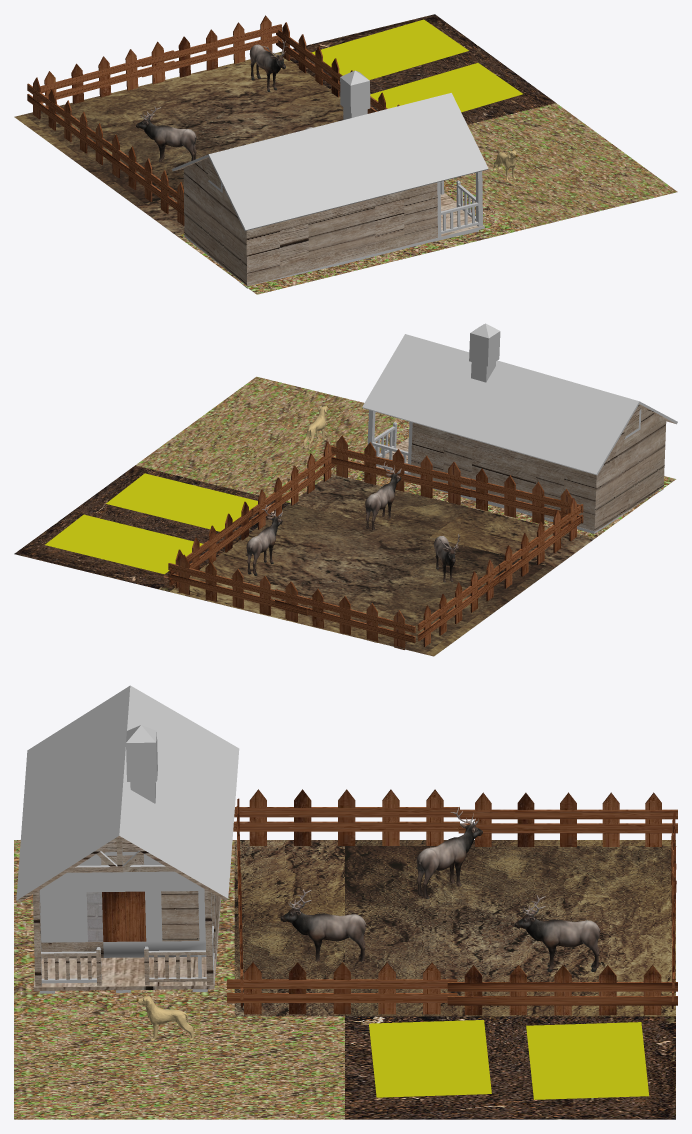
File: elfa_farm.fbx
3 renders of one model, top to bottom at view 1: azimuth 30°, elevation 25°; view 2: azimuth 150°, elevation 25°; view 3: azimuth 270°, elevation 25°, orthographic. The views are drawn at different scales.
Visible parts, largest first — view 1: terreno, Cottage_House, gespa2, gespa2.001, baya.002, baya.004, baya.001, baya.003, baya, Elk.001, Elk.002; view 2: terreno, Cottage_House, gespa2, gespa2.001, baya.008, baya.004, baya.002, baya.007, baya.001, baya.003, baya.005, baya (+3 smaller); view 3: terreno, Cottage_House, gespa2, gespa2.001, baya.001, baya.003, baya, baya.005, Elk.002, Elk, Elk.001, Dog.
Part boxes in pixels (x1,y1,x2,y2): terreno: (14, 14, 677, 294); Cottage_House: (172, 70, 488, 288); gespa2: (311, 19, 468, 79); gespa2.001: (370, 63, 522, 112); baya.002: (141, 15, 282, 84); baya.004: (40, 41, 174, 107); baya.001: (106, 134, 184, 225); baya.003: (27, 77, 107, 164); baya: (276, 22, 352, 97); Elk.001: (136, 106, 196, 161); Elk.002: (249, 40, 287, 91); terreno: (14, 376, 675, 656); Cottage_House: (362, 323, 677, 533); gespa2: (45, 514, 202, 574); gespa2.001: (106, 473, 257, 531); baya.008: (330, 435, 470, 504); baya.004: (275, 581, 415, 649); baya.002: (168, 554, 307, 622); baya.007: (437, 462, 583, 528); baya.001: (498, 498, 583, 588); baya.003: (417, 559, 499, 646); baya.005: (251, 441, 336, 529); baya: (169, 501, 253, 588); terreno: (14, 840, 675, 1119); Cottage_House: (16, 685, 239, 993); gespa2: (526, 1022, 648, 1099); gespa2.001: (369, 1020, 491, 1097); baya.001: (233, 789, 459, 845); baya.003: (458, 792, 677, 846); baya: (447, 965, 677, 1015); baya.005: (227, 962, 457, 1014); Elk.002: (514, 895, 600, 971); Elk: (280, 889, 366, 961); Elk.001: (416, 806, 482, 898); Dog: (136, 996, 193, 1041).
Bounding box in the file's own units: 780 × 289 × 770.
